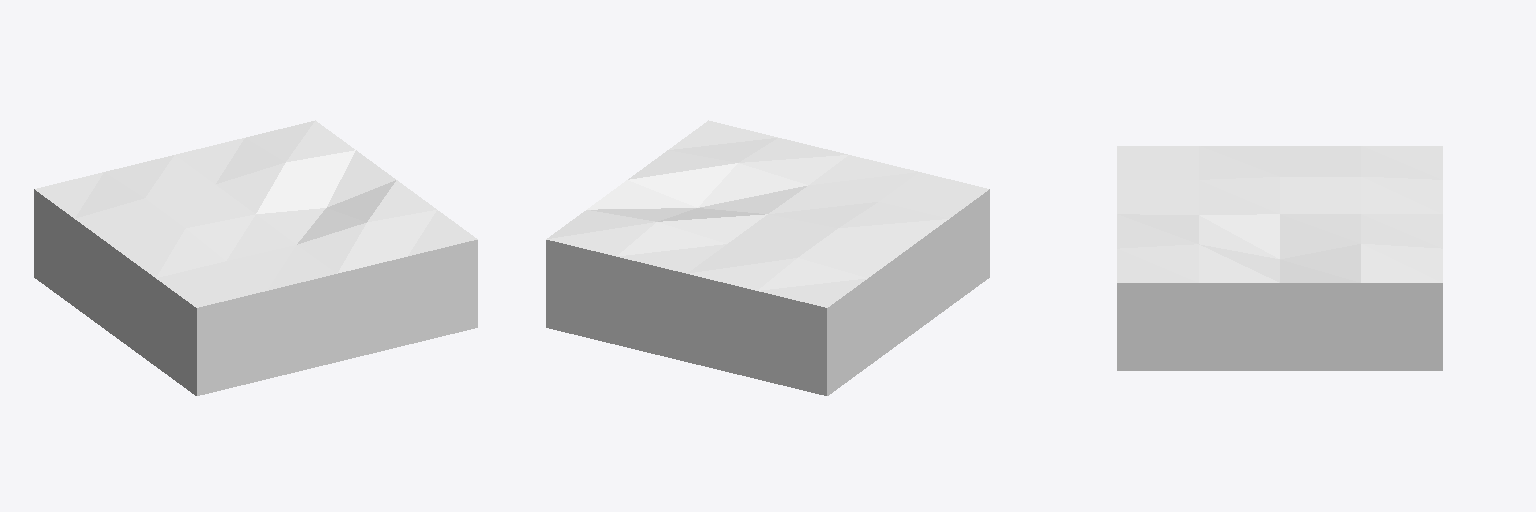
The model's file is Snowtile_3.obj.
3 renders of one model, left to right at view 1: azimuth 30°, elevation 25°; view 2: azimuth 150°, elevation 25°; view 3: azimuth 270°, elevation 25°, orthographic.
Visible parts, largest first — view 1: Cube; view 2: Cube; view 3: Cube.
Boxes of the visible parts, x1,y1,x2,y2 form: Cube: [34, 120, 477, 395]; Cube: [546, 120, 989, 395]; Cube: [1117, 146, 1442, 370].
Bounding box in the file's own units: 2 × 0.6334 × 2.